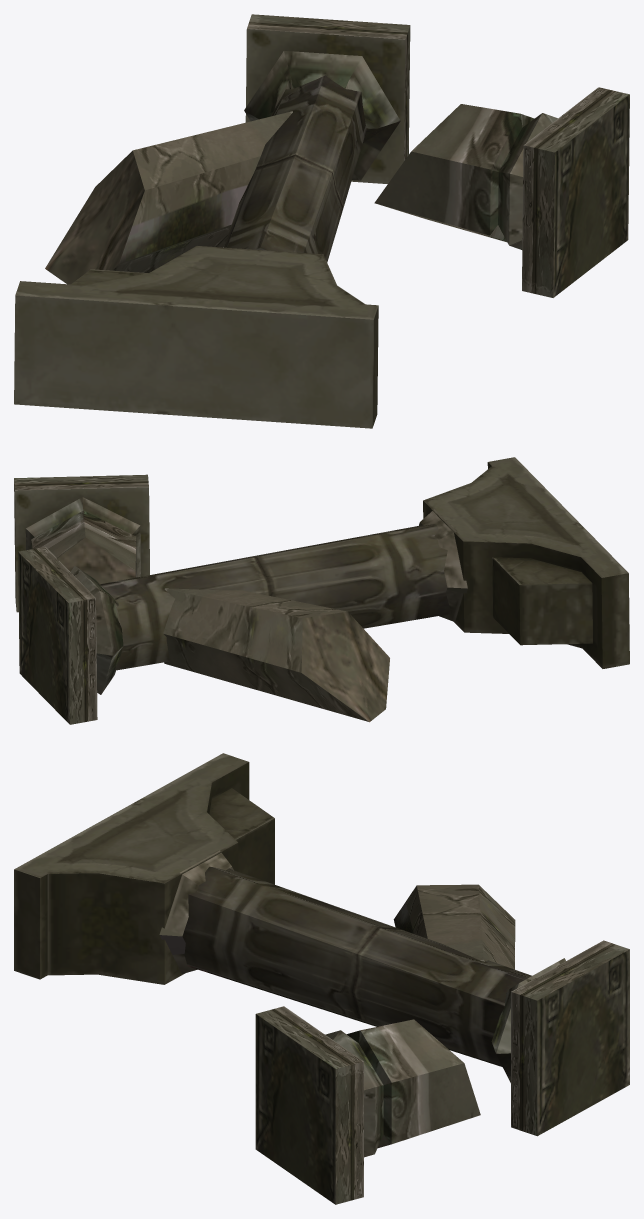
3 views of the same model, one above another, from view 1: azimuth 30°, elevation 25°; view 2: azimuth 150°, elevation 25°; view 3: azimuth 270°, elevation 25° (orthographic). The views are drawn at different scales.
Parts seen in each view (by area): view 1: fx_wj1; view 2: fx_wj1; view 3: fx_wj1.
Part boxes in pixels (x1,y1,x2,y2): fx_wj1: (14, 14, 629, 428); fx_wj1: (14, 457, 629, 724); fx_wj1: (14, 753, 629, 1204).
Size of the model in its own units: 551 by 128 by 463.
1 material, 1 textured.
